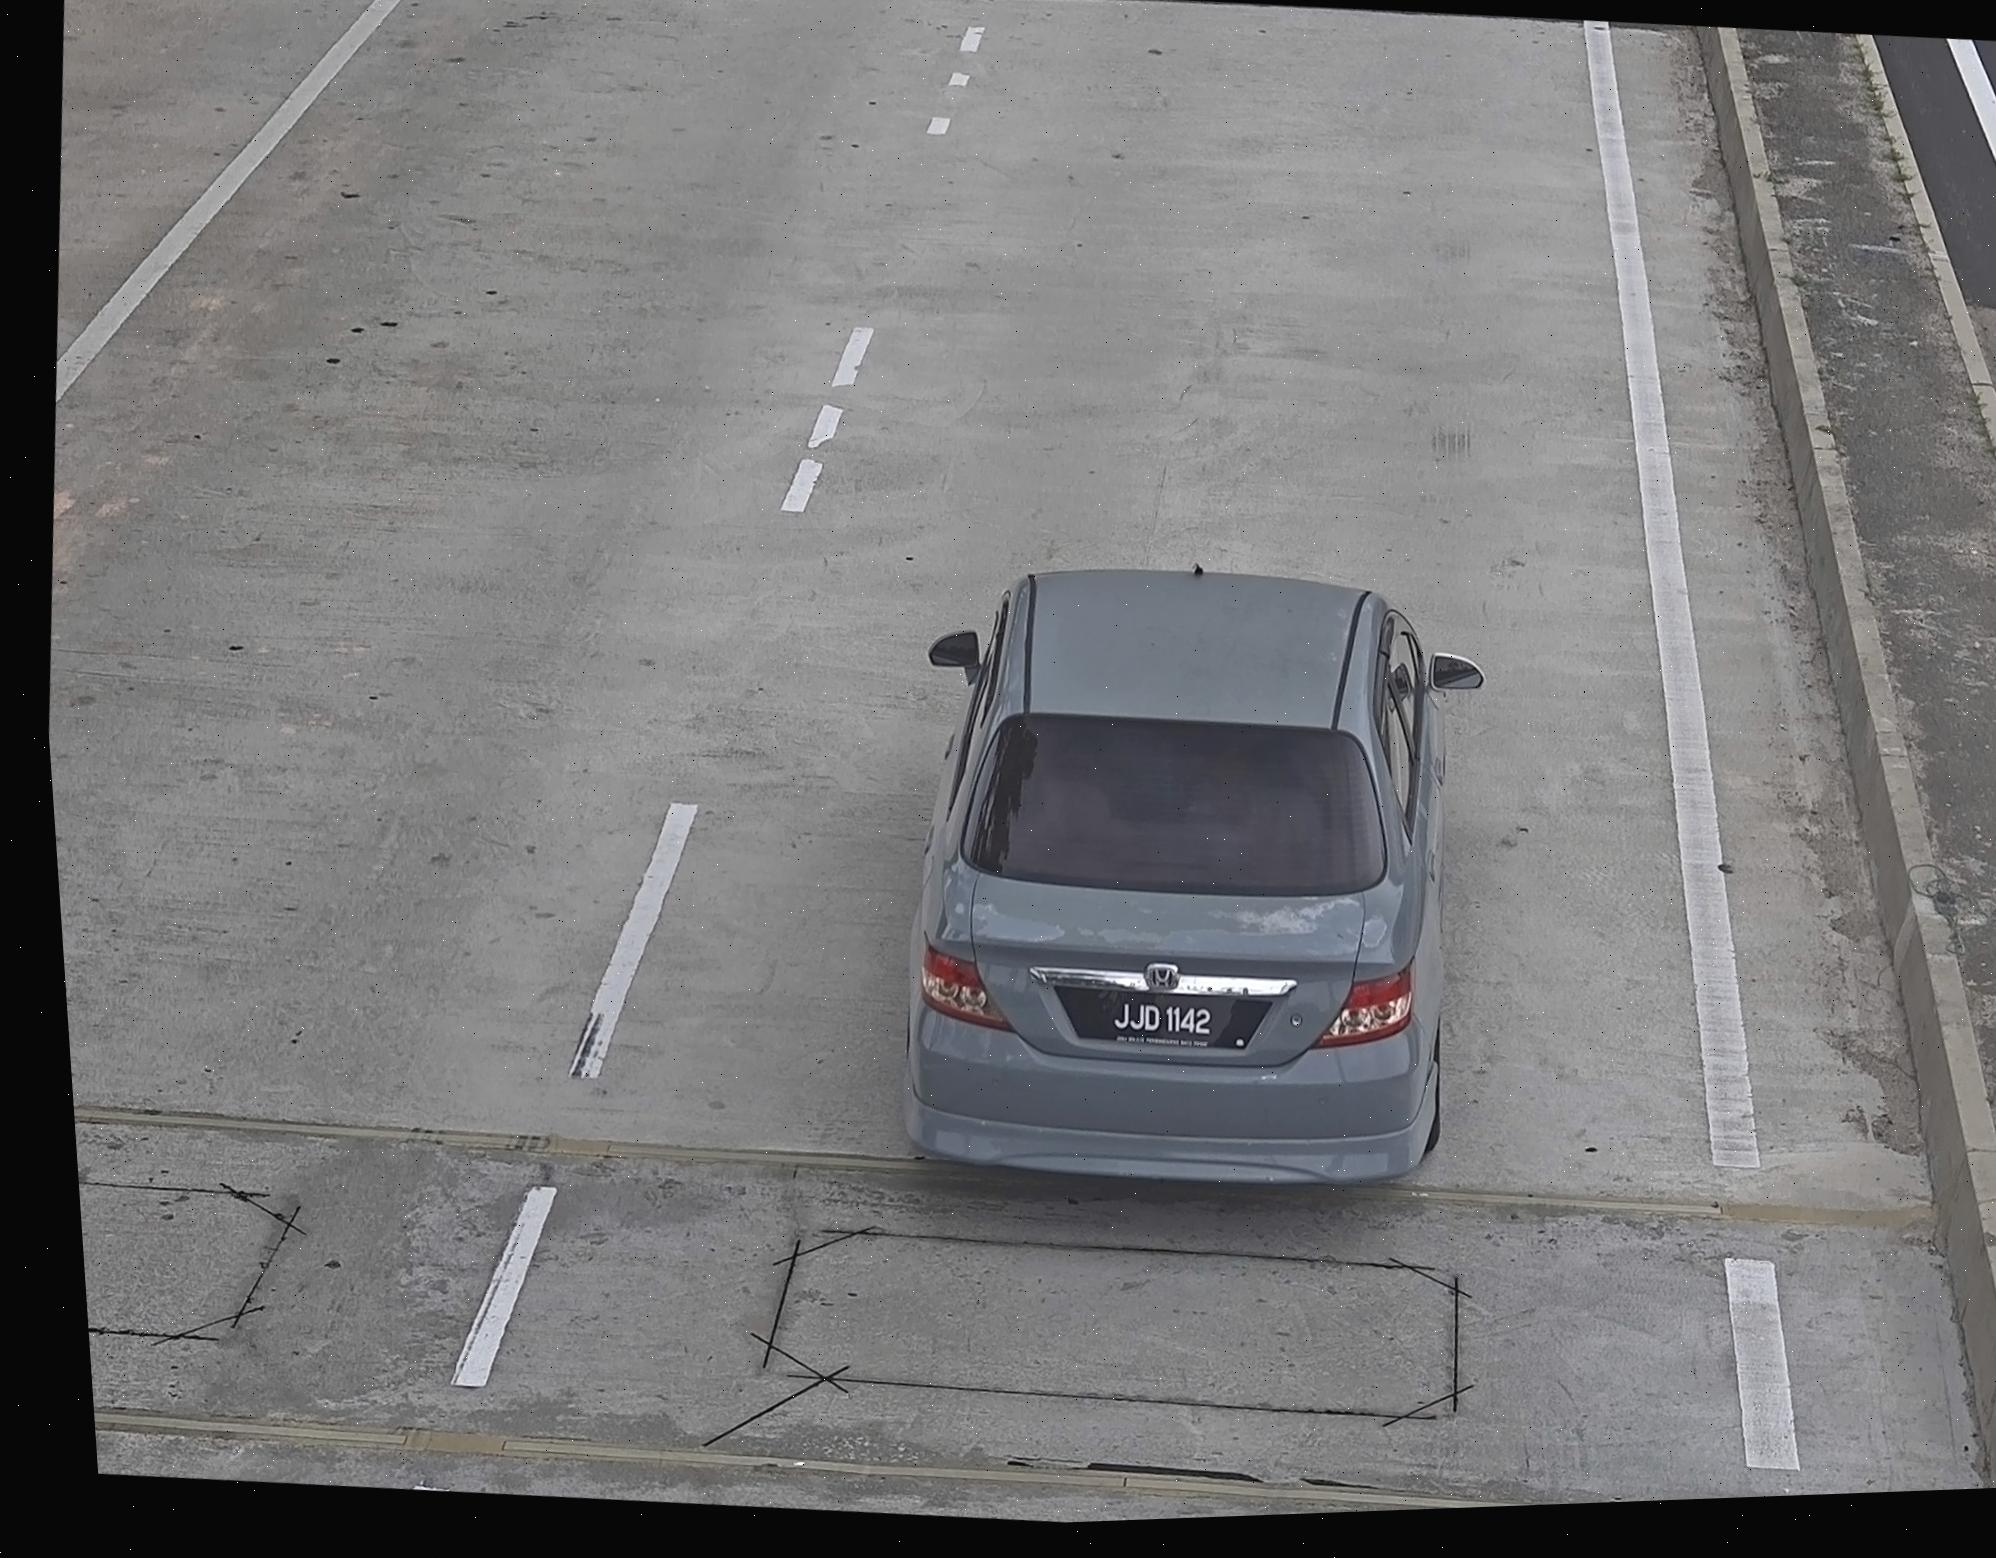non broken: (1094, 986, 1236, 1056)
